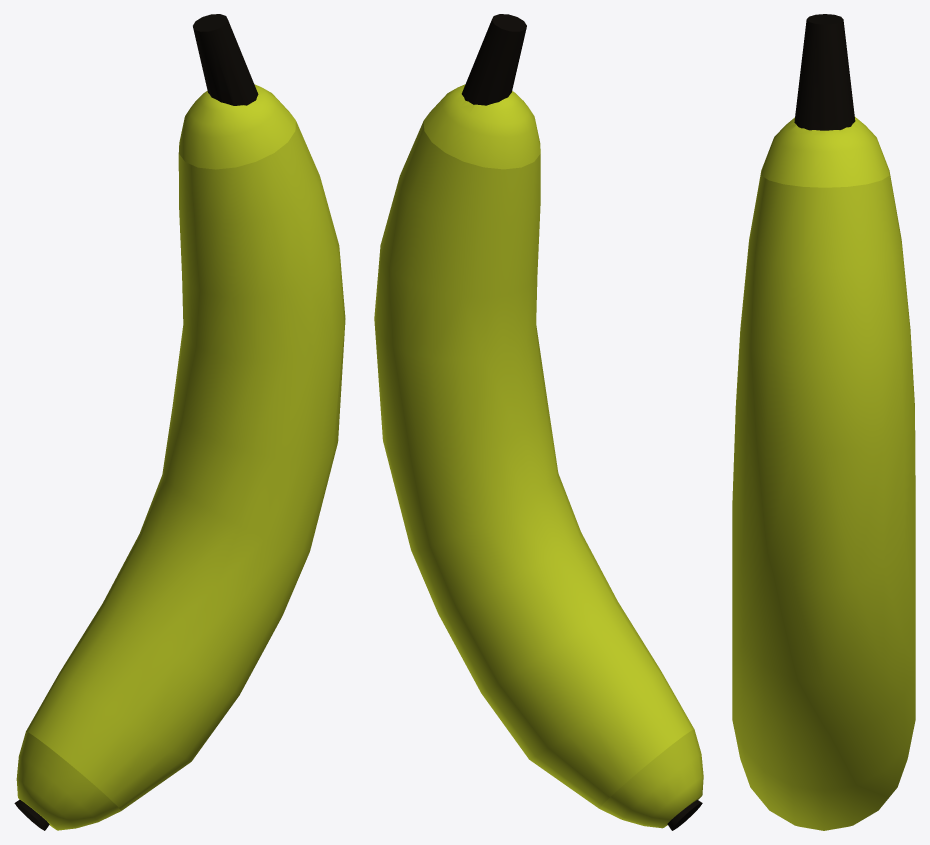
The model's file is Banana.fbx.
The picture shows the model from 3 angles, left to right: view 1: azimuth 30°, elevation 25°; view 2: azimuth 150°, elevation 25°; view 3: azimuth 270°, elevation 25°; orthographic projection. The views are drawn at different scales.
Parts seen in each view (by area): view 1: Cylinder001; view 2: Cylinder001; view 3: Cylinder001.
Part boxes in pixels (x1,y1,x2,y2): Cylinder001: (14,14,345,830); Cylinder001: (374,14,703,830); Cylinder001: (732,14,915,830).
Size of the model in its own units: 38.21 by 89.06 by 16.79.
